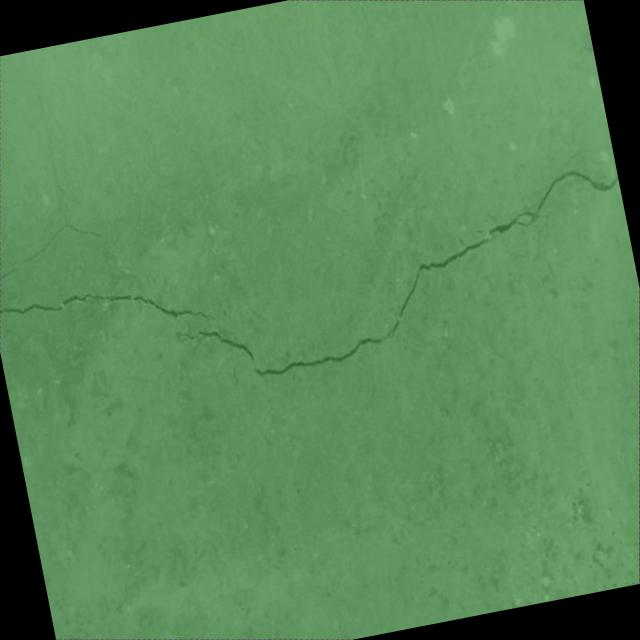crack: (138, 88, 640, 465), (0, 252, 221, 361), (0, 204, 110, 299)
